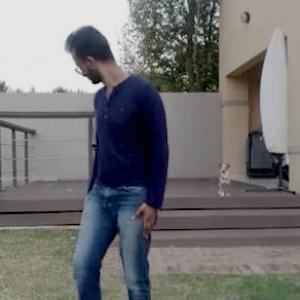follow: (54, 8, 160, 274)
